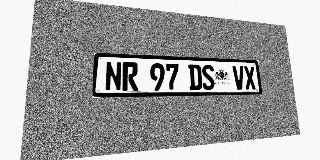7: (165, 63, 180, 90)
9: (150, 63, 165, 91)
D: (188, 64, 202, 90)
N: (105, 61, 122, 91)
R: (122, 62, 138, 91)
S: (201, 65, 215, 90)
V: (232, 66, 245, 90)
X: (243, 66, 256, 90)
